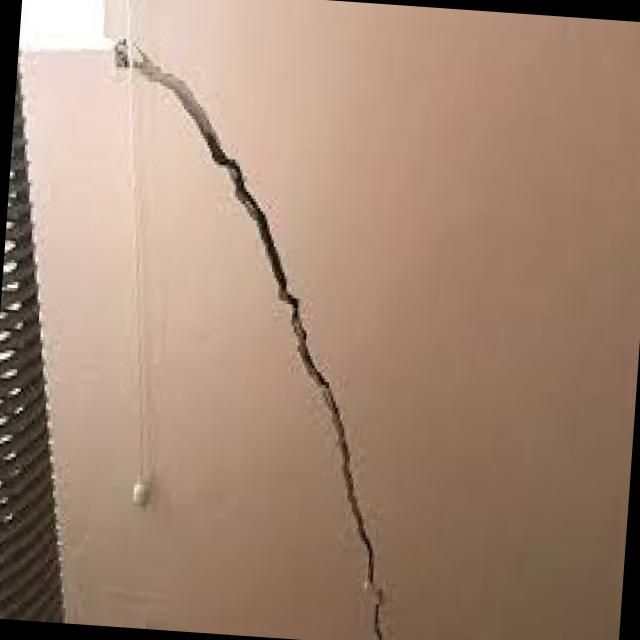crack: (72, 35, 424, 640)
